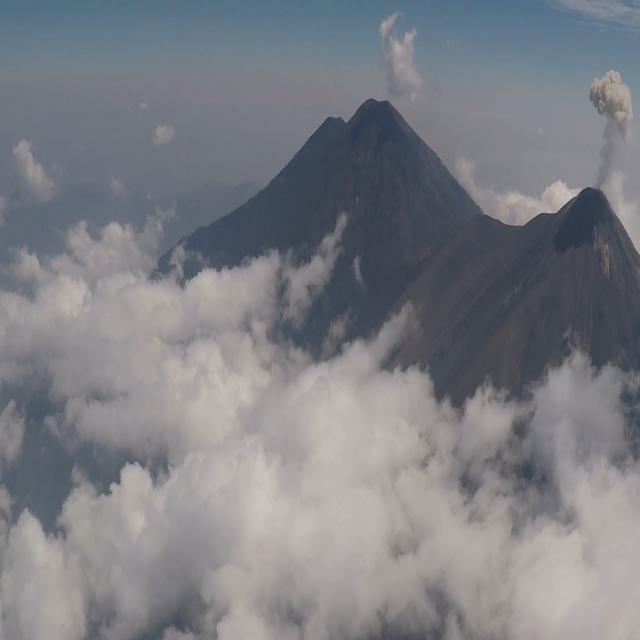Plume: (590, 68, 635, 146)
Summit: (521, 176, 640, 271)
